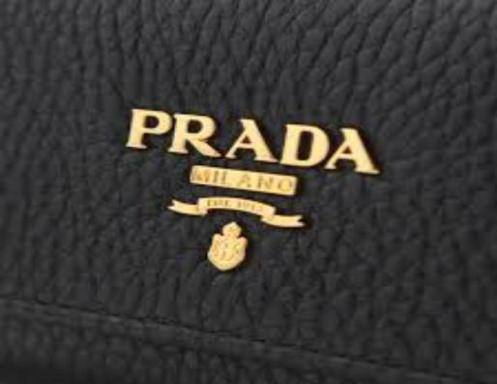PRADA: (117, 99, 384, 180)
